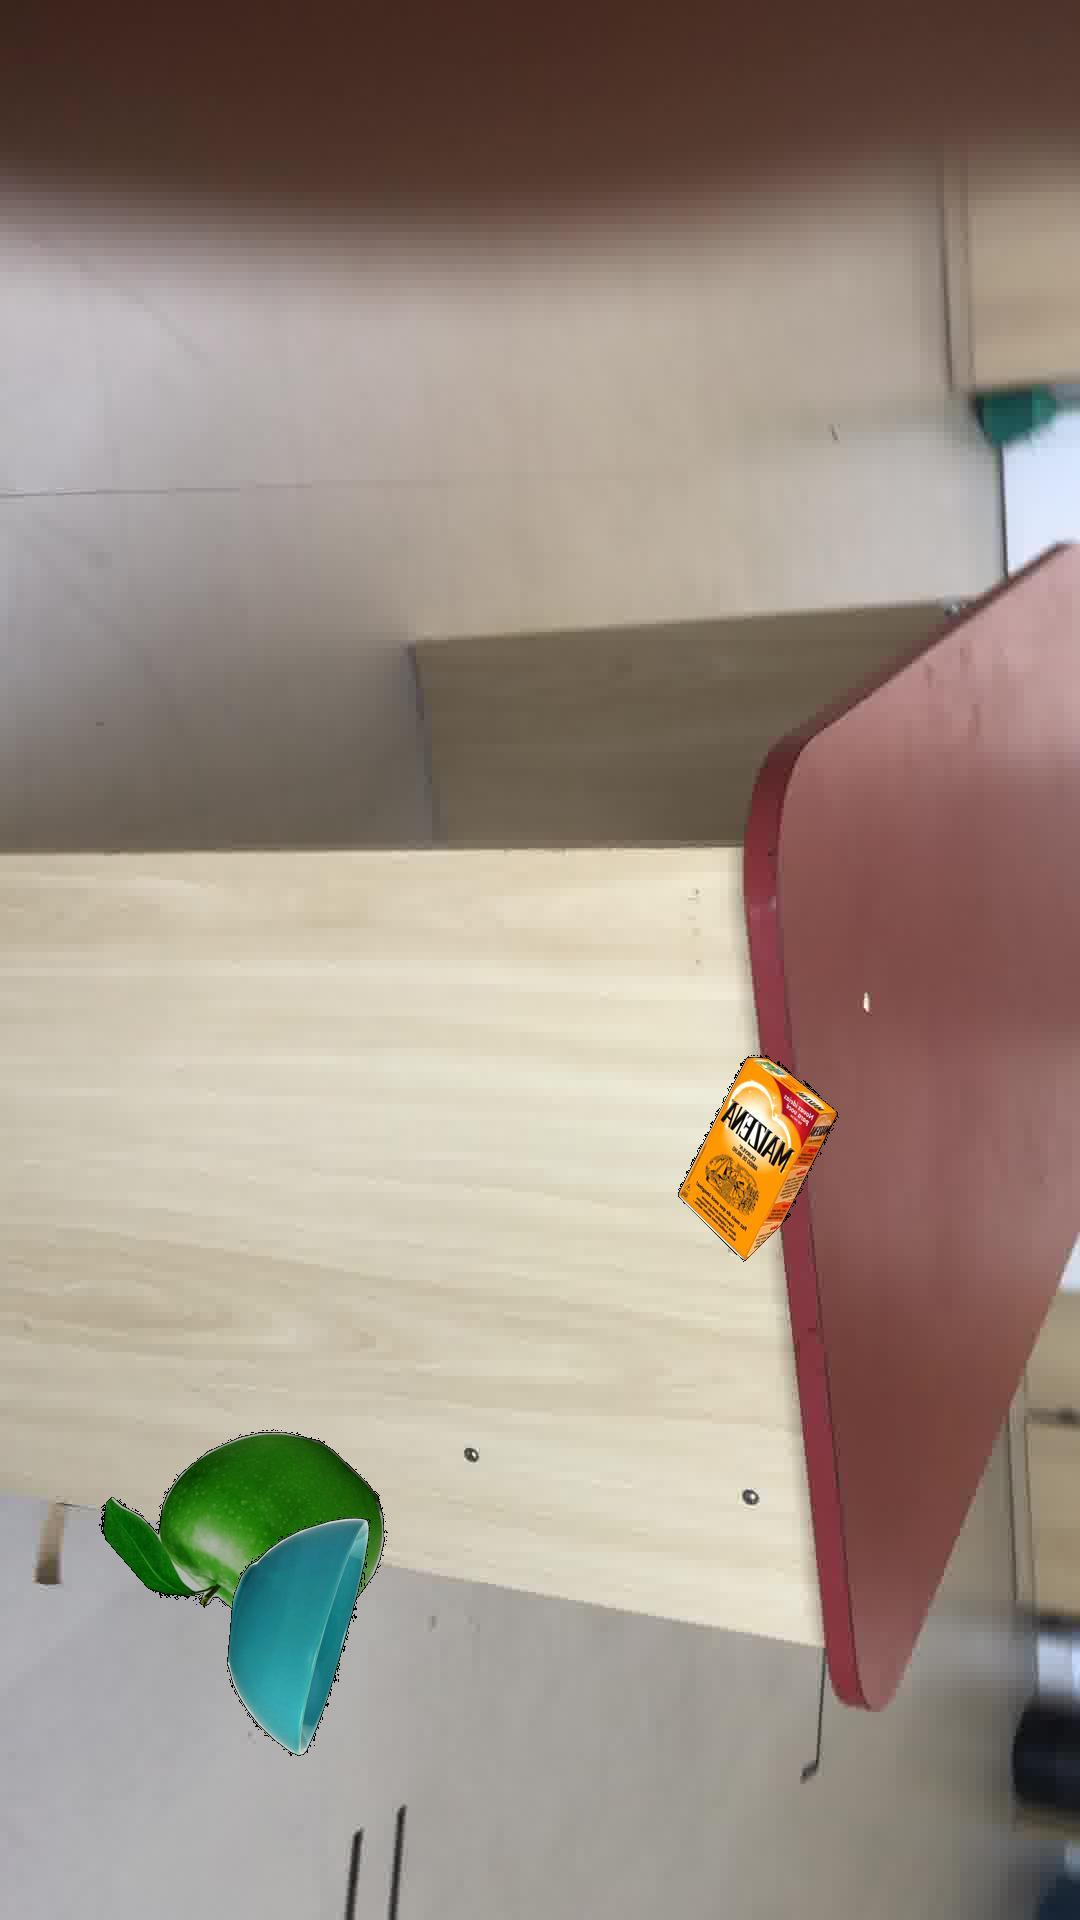bowl: (225, 1516, 368, 1754)
green apple: (99, 1431, 384, 1607)
